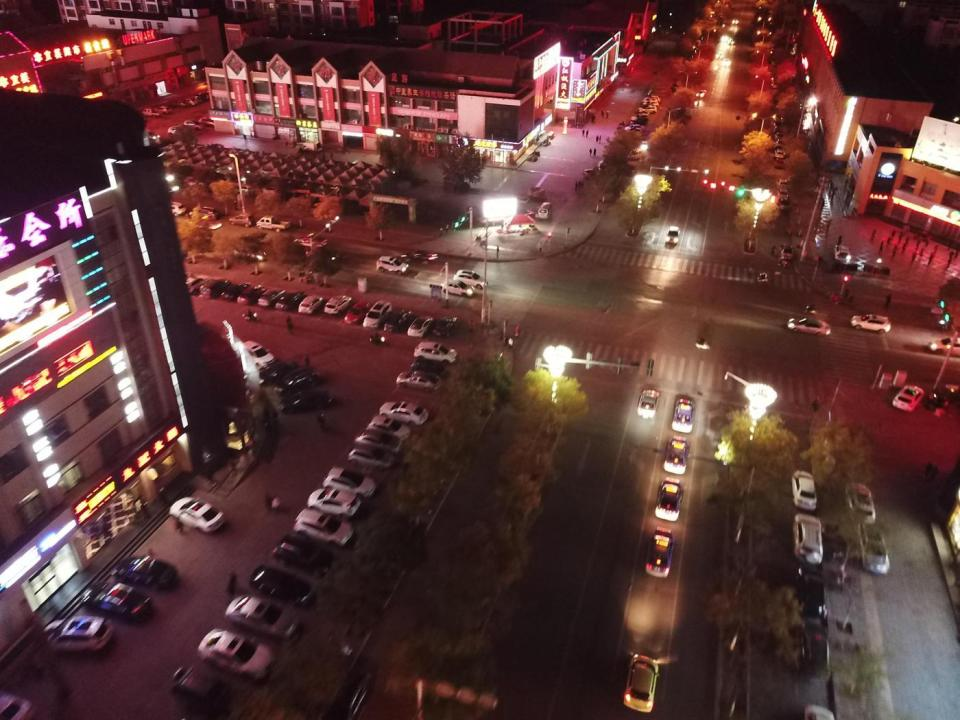bus: (708, 10, 714, 21)
car: (196, 627, 276, 681), (316, 655, 376, 720), (225, 594, 302, 640), (173, 666, 239, 714), (41, 615, 113, 655), (82, 582, 151, 622), (250, 565, 314, 608), (272, 534, 334, 575), (111, 557, 177, 590), (293, 509, 354, 544), (169, 496, 224, 534), (624, 654, 658, 713), (798, 619, 827, 678), (306, 487, 361, 518), (323, 467, 376, 498), (859, 524, 890, 576), (794, 512, 824, 564), (646, 527, 676, 578), (795, 567, 825, 614), (273, 367, 320, 396), (379, 401, 429, 426), (846, 483, 875, 524), (655, 478, 682, 520), (279, 391, 332, 412), (355, 430, 403, 453), (367, 416, 411, 440), (790, 470, 816, 510), (414, 342, 456, 366), (396, 370, 439, 392), (663, 436, 687, 474), (260, 361, 297, 385), (362, 300, 391, 330), (786, 317, 830, 336), (892, 385, 924, 411), (242, 341, 274, 366), (383, 306, 413, 332), (851, 314, 891, 333), (453, 270, 488, 290), (672, 399, 693, 432), (343, 300, 369, 326), (412, 358, 447, 377), (235, 284, 265, 306), (231, 244, 265, 263), (636, 390, 659, 418), (324, 294, 352, 316), (375, 256, 409, 274), (178, 275, 210, 293), (221, 280, 247, 302), (201, 278, 228, 299), (292, 234, 327, 250), (274, 291, 305, 309), (404, 249, 438, 265), (928, 337, 960, 354), (305, 246, 335, 264), (433, 315, 456, 338), (443, 280, 474, 297), (408, 316, 432, 337), (258, 288, 283, 306), (298, 296, 323, 314), (927, 390, 948, 410), (158, 202, 186, 216), (191, 206, 217, 221), (229, 213, 254, 227), (834, 245, 851, 264), (780, 244, 794, 261), (183, 120, 204, 131), (167, 125, 186, 136), (200, 116, 216, 127), (142, 131, 160, 140), (638, 105, 656, 114), (815, 234, 825, 248), (779, 199, 790, 211), (625, 124, 643, 131), (777, 188, 788, 199), (916, 231, 929, 240), (642, 99, 658, 106), (631, 118, 649, 124), (631, 114, 648, 120), (774, 148, 784, 158), (776, 179, 787, 188), (156, 106, 170, 113), (648, 90, 661, 97), (647, 95, 660, 102), (775, 138, 785, 147), (775, 158, 784, 168), (191, 96, 202, 104), (197, 92, 208, 100), (182, 98, 196, 104), (173, 101, 186, 107), (691, 34, 704, 40), (688, 38, 700, 44), (693, 99, 702, 107), (697, 90, 707, 97), (774, 112, 781, 122), (687, 47, 697, 53), (728, 37, 734, 45), (715, 52, 723, 58), (774, 126, 781, 132), (775, 132, 782, 138), (732, 18, 738, 24), (772, 82, 778, 88), (774, 121, 780, 127), (772, 60, 776, 66), (772, 75, 776, 81)
truck: (257, 215, 290, 232), (302, 140, 321, 152), (142, 108, 158, 116)
van: (230, 182, 254, 196), (626, 148, 650, 159), (538, 202, 552, 219), (666, 226, 679, 244), (583, 170, 598, 178), (641, 140, 647, 149)
